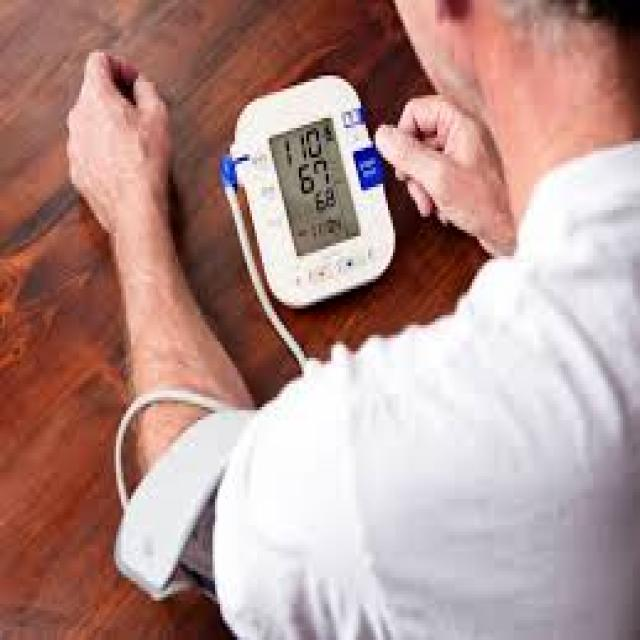dia: (294, 154, 337, 200)
pul: (309, 184, 344, 215)
ssd: (267, 117, 363, 260)
sys: (277, 123, 332, 171)
